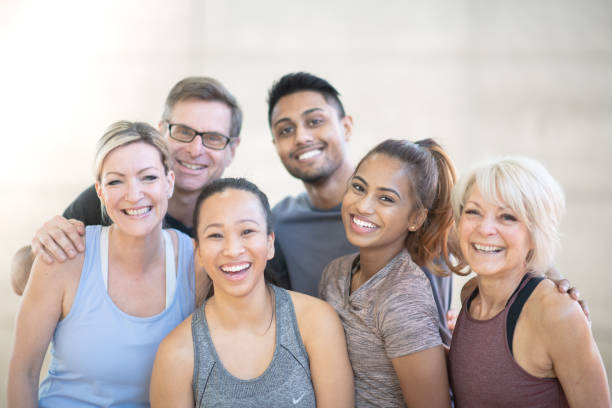face: (202, 205, 268, 295), (272, 100, 343, 178), (100, 155, 165, 234), (462, 196, 523, 278), (165, 102, 225, 184), (344, 170, 410, 243)
